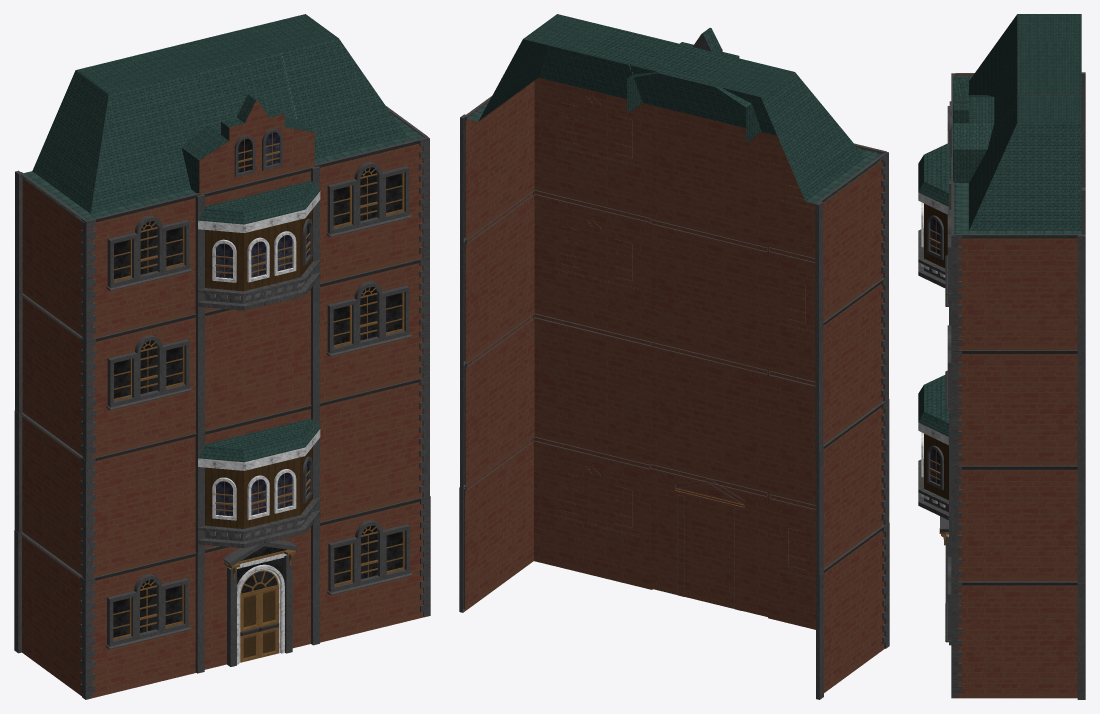
File: Mansion.001_House.004c.fbx
The picture shows the model from 3 angles, left to right: view 1: azimuth 30°, elevation 25°; view 2: azimuth 150°, elevation 25°; view 3: azimuth 270°, elevation 25°; orthographic projection. The views are drawn at different scales.
Visible parts, largest first — view 1: Mansion001_House_004; view 2: Mansion001_House_004; view 3: Mansion001_House_004.
Boxes of the visible parts, x1,y1,x2,y2 form: Mansion001_House_004: (14, 14, 430, 699); Mansion001_House_004: (459, 14, 889, 699); Mansion001_House_004: (918, 14, 1085, 699).
Bounding box in the file's own units: 1212 × 1884 × 520.
